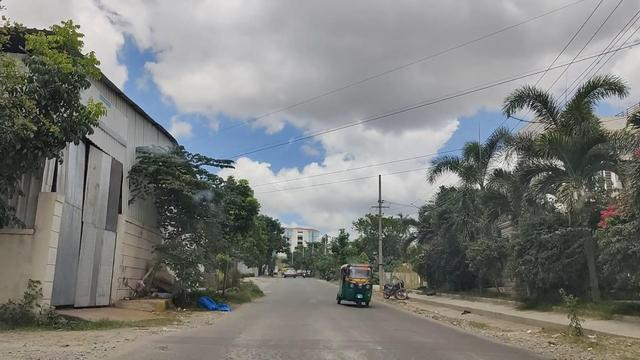RoadDamages: (69, 325, 194, 360)
